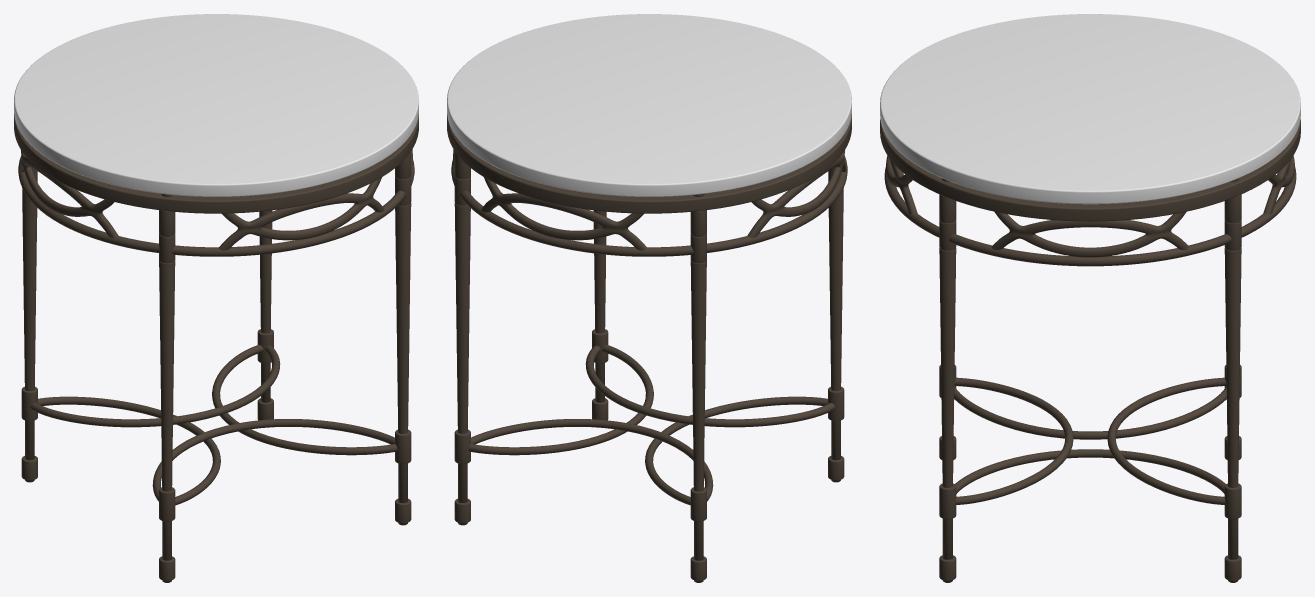
The model's file is Table_round.fbx.
3 views of the same model, side by side, from view 1: azimuth 30°, elevation 25°; view 2: azimuth 150°, elevation 25°; view 3: azimuth 270°, elevation 25° (orthographic). The views are drawn at different scales.
Visible parts, largest first — view 1: BezierCircle.001; view 2: BezierCircle.001; view 3: BezierCircle.001.
Boxes of the visible parts, x1=… form: BezierCircle.001: x1=14, y1=14, x2=418, y2=582; BezierCircle.001: x1=447, y1=14, x2=851, y2=582; BezierCircle.001: x1=880, y1=14, x2=1300, y2=582.
Bounding box in the file's own units: 51 × 56 × 51.
